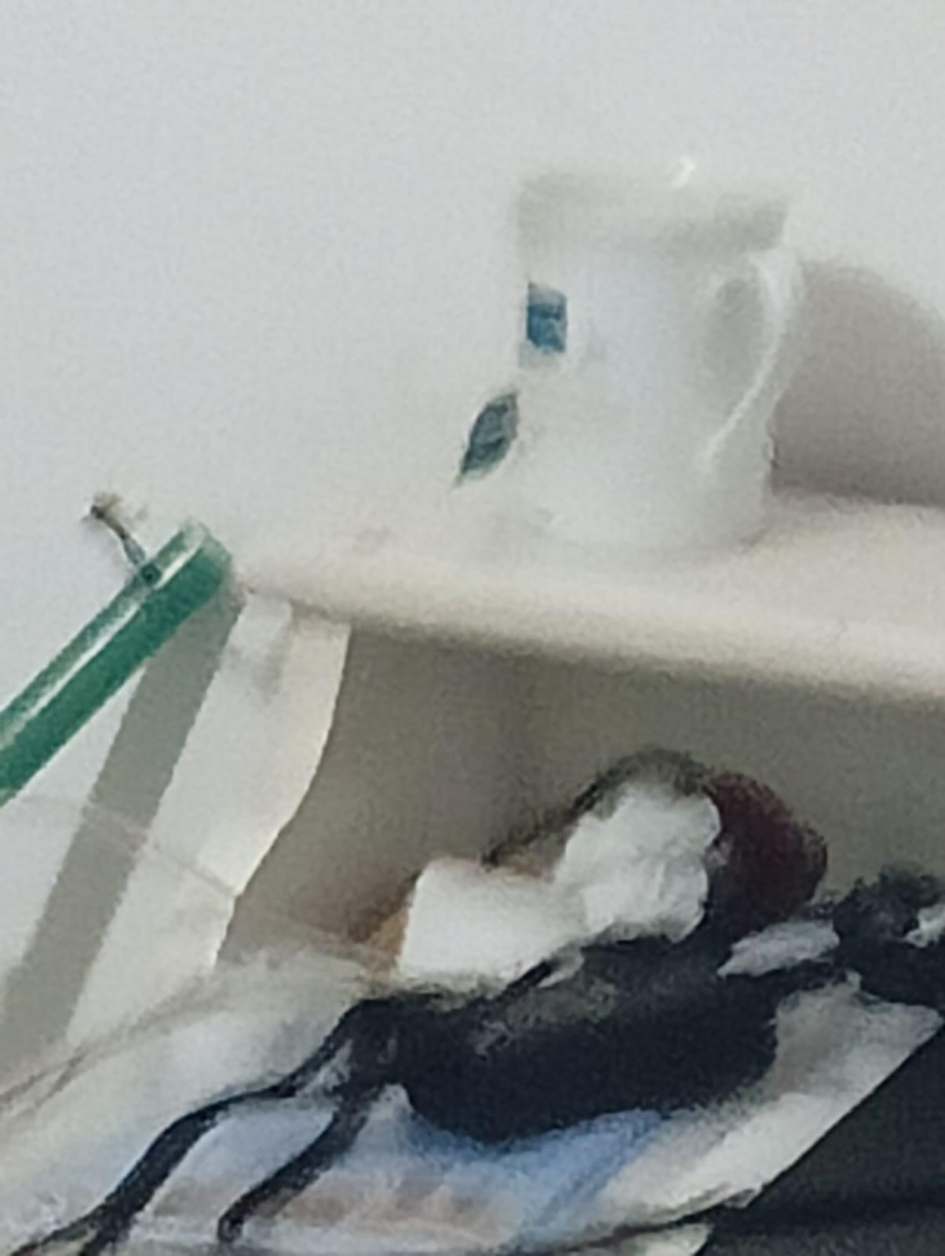cup: (502, 166, 801, 555)
